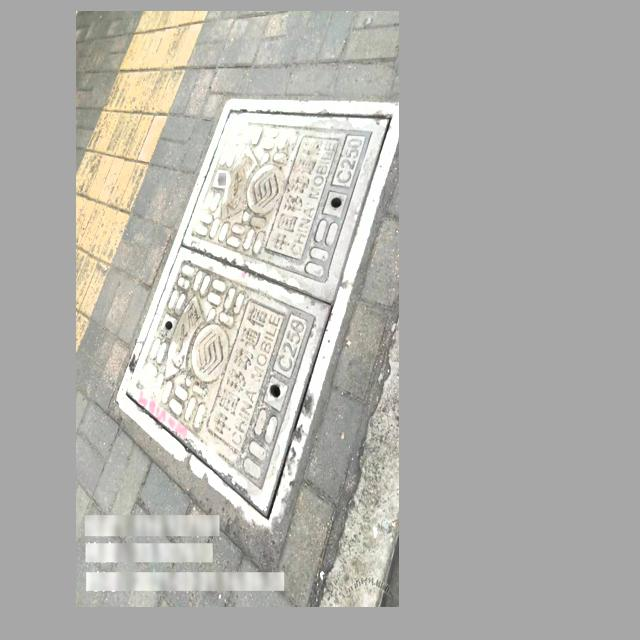good: (117, 97, 399, 530)
